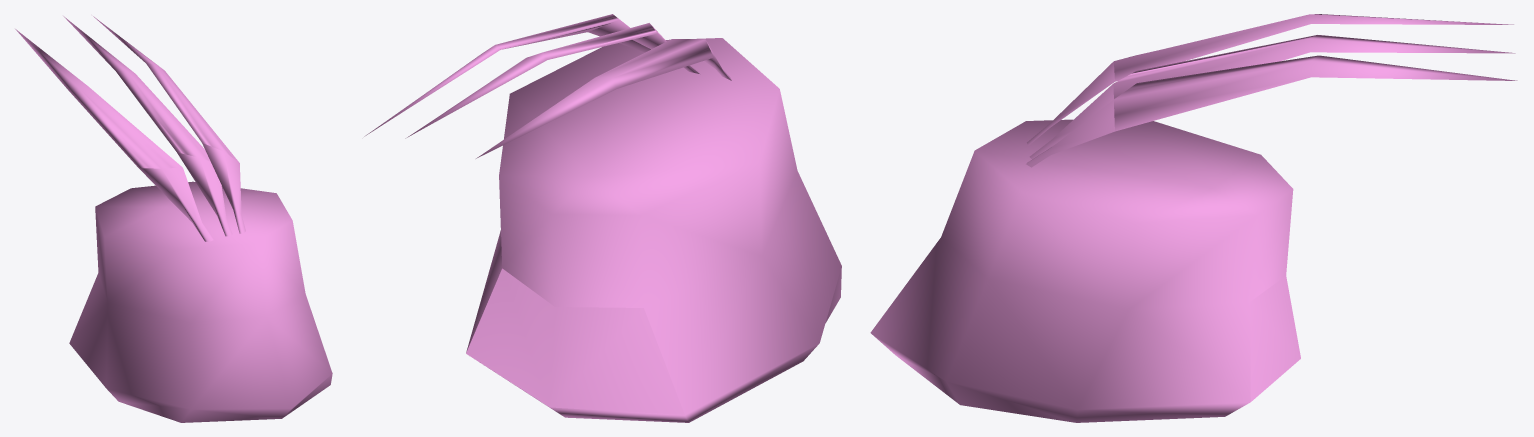
The model's file is maya_plume_d.dae.
The picture shows the model from 3 angles, left to right: view 1: azimuth 30°, elevation 25°; view 2: azimuth 150°, elevation 25°; view 3: azimuth 270°, elevation 25°; orthographic projection. The views are drawn at different scales.
Parts seen in each view (by area): view 1: lioness_001; view 2: lioness_001; view 3: lioness_001.
Boxes of the visible parts, x1,y1,x2,y2 form: lioness_001: [15, 16, 332, 422]; lioness_001: [364, 14, 841, 422]; lioness_001: [870, 14, 1517, 422].
Bounding box in the file's own units: 0.4779 × 0.9701 × 0.5617.
